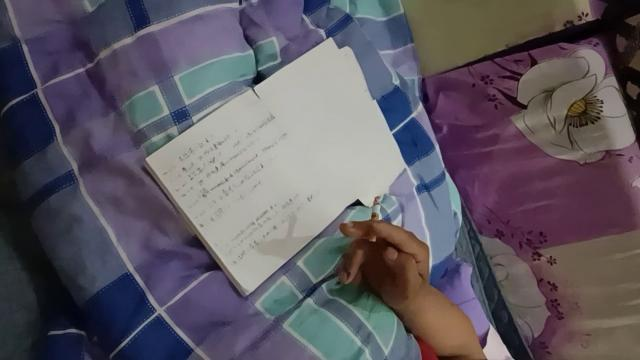Cigarette: (368, 196, 382, 242)
